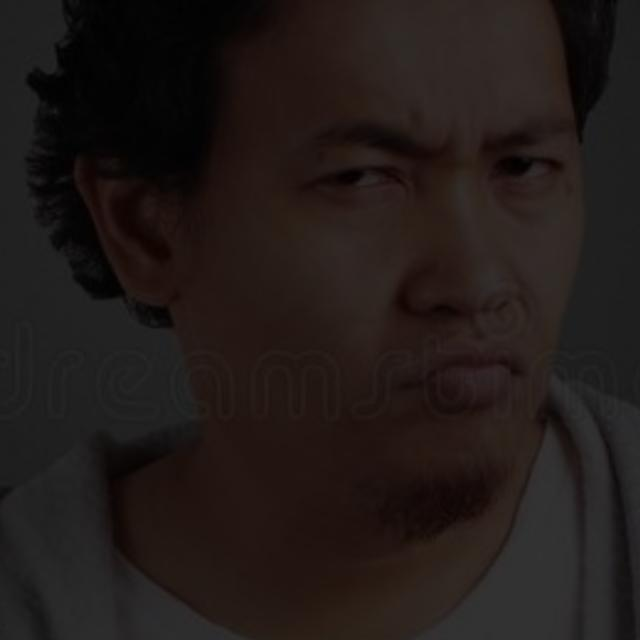Disgust: (10, 0, 640, 609)
